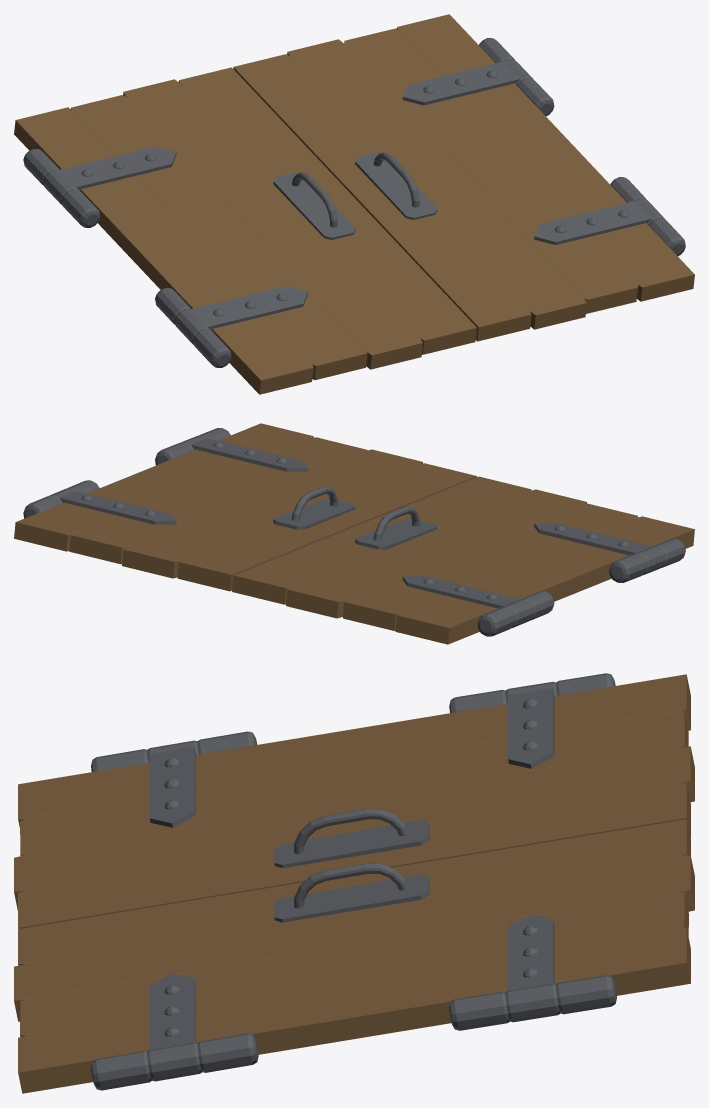
Rendered from Basement doors closed.fbx.
The picture shows the model from 3 angles, top to bottom: view 1: azimuth 30°, elevation 25°; view 2: azimuth 150°, elevation 25°; view 3: azimuth 270°, elevation 25°; orthographic projection. The views are drawn at different scales.
Parts seen in each view (by area): view 1: Doors closed; view 2: Doors closed; view 3: Doors closed.
Boxes of the visible parts, <box> form: Doors closed: <box>14,14,694,394</box>; Doors closed: <box>14,423,694,644</box>; Doors closed: <box>14,673,694,1093</box>.
Bounding box in the file's own units: 2.44 × 0.4782 × 2.23.
